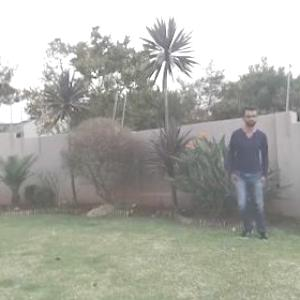follow: (229, 101, 271, 246)
